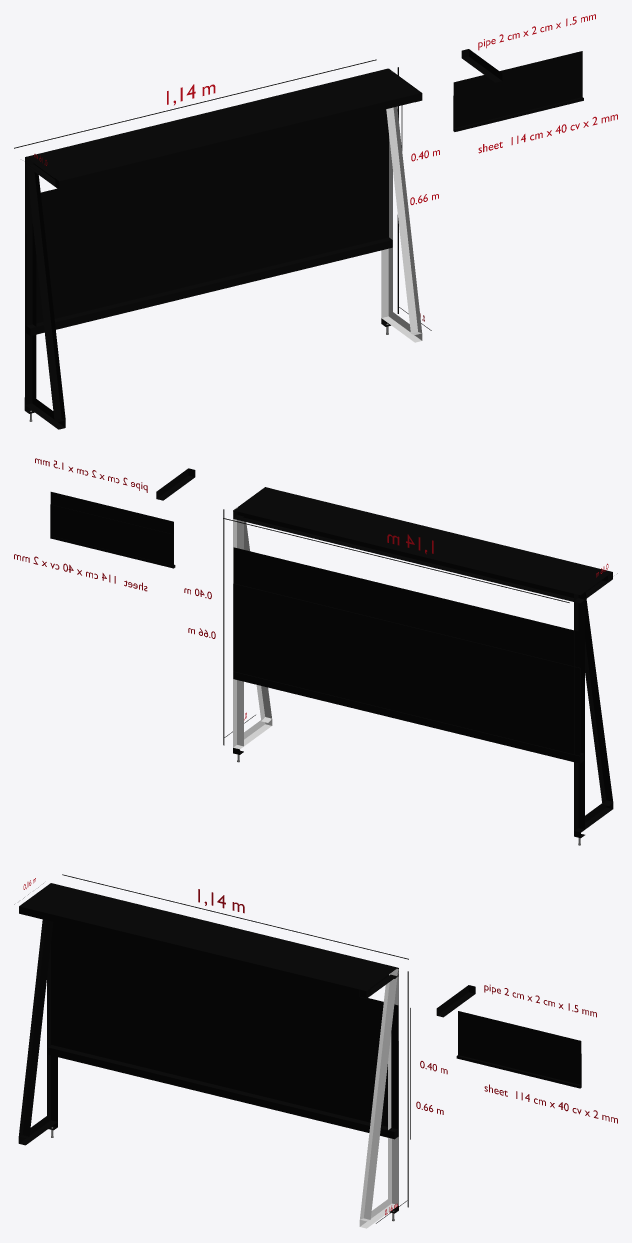
The model's file is superstructure02.glb.
3 views of the same model, one above another, from view 1: azimuth 30°, elevation 25°; view 2: azimuth 150°, elevation 25°; view 3: azimuth 330°, elevation 25° (orthographic). The views are drawn at different scales.
Parts seen in each view (by area): view 1: Cube.004, Cube.006, Cube.015, Cube.013, Cube.003, Cube.012, Cube.002, Cube.014; view 2: Cube.004, Cube.006, Cube.015, Cube.005, Cube.013, Cube.012, Cube.002, Cube.003, Cube.014; view 3: Cube.004, Cube.006, Cube.015, Cube.003, Cube.013, Cube.002, Cube.012, Cube.014.
Part boxes in pixels (x1,y1,x2,y2): Cube.004: (26, 105, 402, 335); Cube.006: (14, 59, 421, 188); Cube.015: (453, 51, 583, 131); Cube.013: (25, 158, 65, 421); Cube.003: (386, 71, 421, 334); Cube.012: (25, 158, 36, 407); Cube.002: (381, 136, 392, 320); Cube.014: (461, 49, 502, 82); Cube.004: (233, 547, 583, 763); Cube.006: (223, 487, 611, 602); Cube.015: (50, 492, 175, 568); Cube.005: (233, 511, 583, 603); Cube.013: (576, 592, 613, 805); Cube.012: (574, 593, 584, 832); Cube.002: (233, 511, 243, 749); Cube.003: (236, 507, 271, 722); Cube.014: (156, 468, 195, 500); Cube.004: (48, 922, 410, 1139); Cube.006: (20, 874, 408, 998); Cube.015: (456, 1011, 581, 1088); Cube.003: (360, 969, 398, 1221); Cube.013: (18, 919, 52, 1137); Cube.002: (388, 968, 398, 1207); Cube.012: (47, 941, 57, 1124); Cube.014: (436, 985, 475, 1017).
Bounding box in the file's own units: 4.8 × 2.22 × 0.625.
